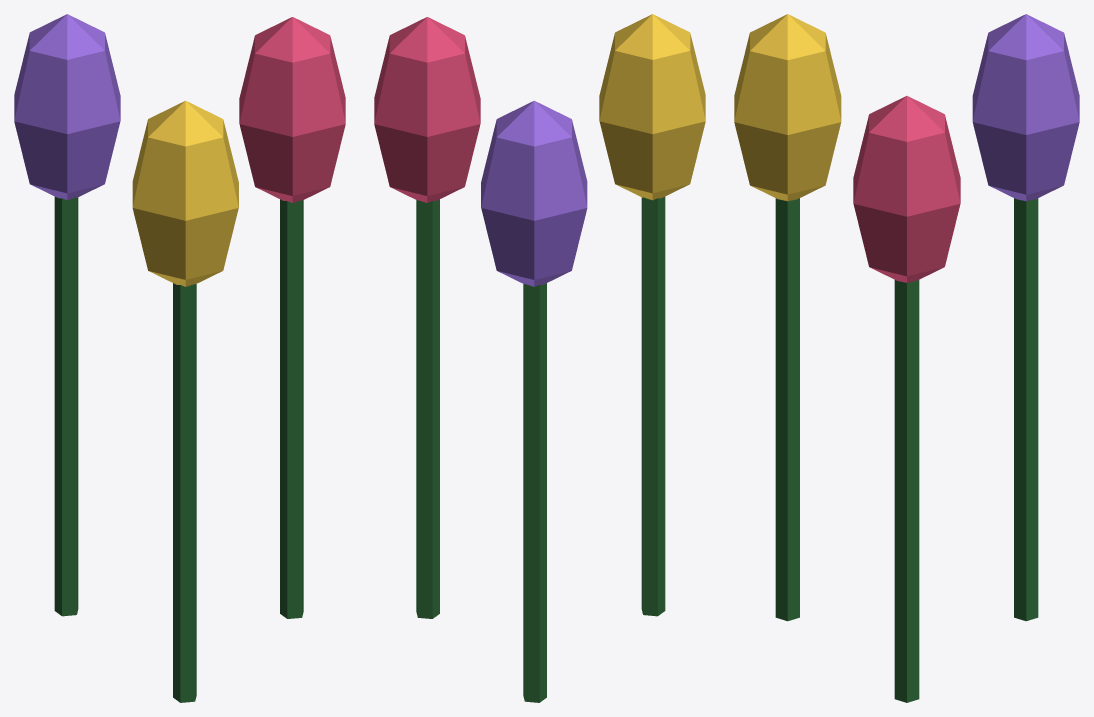
File: flower_group.glb
3 views of the same model, side by side, from view 1: azimuth 30°, elevation 25°; view 2: azimuth 150°, elevation 25°; view 3: azimuth 270°, elevation 25° (orthographic).
Parts seen in each view (by area): view 1: flower_group; view 2: flower_group; view 3: flower_group.
Boxes of the visible parts, x1,y1,x2,y2 form: flower_group: [14, 14, 345, 702]; flower_group: [374, 14, 705, 702]; flower_group: [734, 14, 1079, 702].
Bounding box in the file's own units: 0.9157 × 1.92 × 0.9984.
